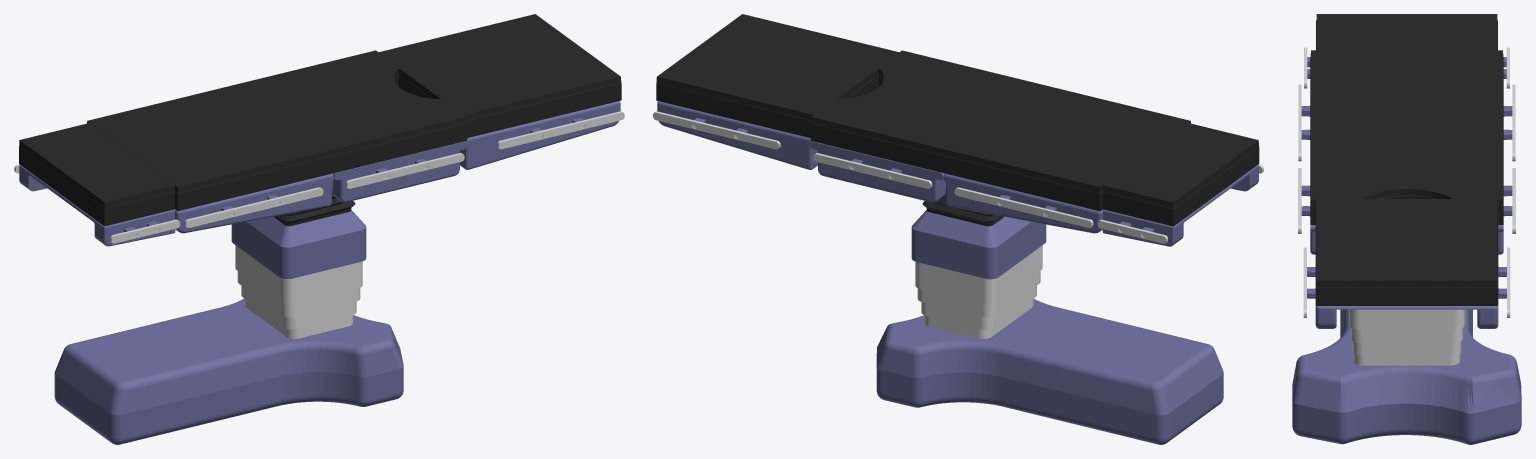
Rendered from or_table.dae.
3 views of the same model, side by side, from view 1: azimuth 30°, elevation 25°; view 2: azimuth 150°, elevation 25°; view 3: azimuth 270°, elevation 25° (orthographic). The views are drawn at different scales.
Visible parts, largest first — view 1: Basis00, Patient02, Patient04, Patient03, Patient01, Basis05, Basis04, Basis03, Basis02, Basis01; view 2: Basis00, Patient02, Patient04, Patient03, Patient01, Basis05, Basis04, Basis03, Basis02, Basis01; view 3: Patient04, Basis00, Patient02, Patient03, Patient01, Basis04, Basis03, Basis02, Basis01.
Part boxes in pixels (box(x1,y1,x2,y2)): Basis00: box(54, 298, 403, 444); Patient02: box(87, 82, 339, 233); Patient04: box(378, 14, 624, 169); Patient03: box(244, 50, 467, 202); Patient01: box(14, 123, 180, 246); Basis05: box(231, 188, 366, 278); Basis04: box(235, 245, 362, 304); Basis03: box(237, 271, 360, 317); Basis02: box(241, 286, 356, 329); Basis01: box(244, 298, 353, 338); Basis00: box(876, 299, 1223, 444); Patient02: box(938, 81, 1190, 233); Patient04: box(653, 14, 899, 169); Patient03: box(810, 50, 1028, 202); Patient01: box(1097, 123, 1263, 246); Basis05: box(911, 188, 1046, 279); Basis04: box(915, 245, 1042, 304); Basis03: box(917, 271, 1040, 317); Basis02: box(921, 286, 1036, 329); Basis01: box(924, 299, 1033, 338); Patient04: box(1303, 199, 1510, 328); Basis00: box(1292, 309, 1521, 444); Patient02: box(1298, 50, 1515, 161); Patient03: box(1298, 131, 1515, 254); Patient01: box(1304, 14, 1509, 88); Basis04: box(1349, 309, 1464, 329); Basis03: box(1351, 328, 1462, 342); Basis02: box(1352, 341, 1461, 355); Basis01: box(1353, 353, 1460, 365).
Bounding box in the file's own units: 1.81 × 0.6562 × 0.87.
